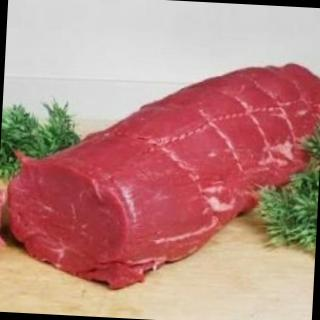Daging Sapi: (7, 49, 320, 299)
